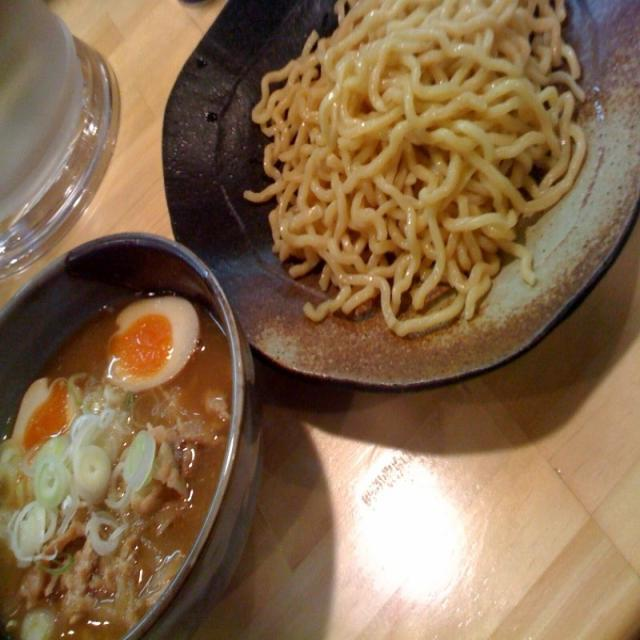面条主食: (1, 3, 586, 638)
